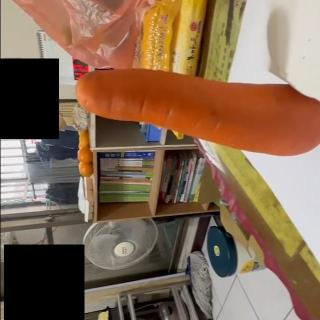carrot: (74, 70, 320, 157)
